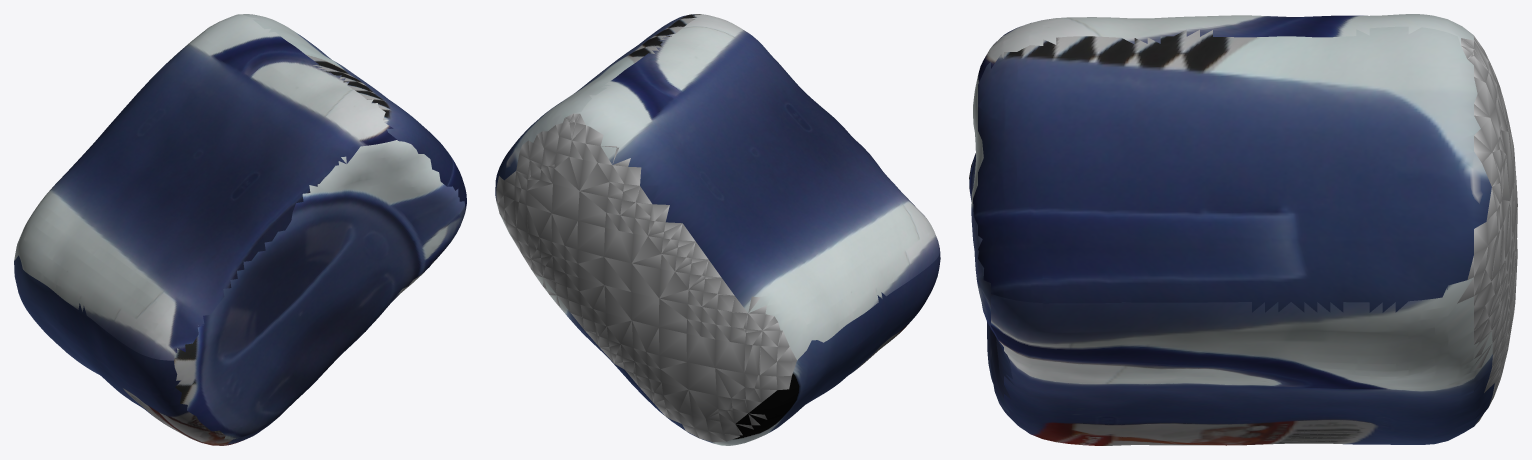
The model's file is model_com.obj.
The picture shows the model from 3 angles, left to right: view 1: azimuth 30°, elevation 25°; view 2: azimuth 150°, elevation 25°; view 3: azimuth 270°, elevation 25°; orthographic projection. The views are drawn at different scales.
Bounding box in the file's own units: 0.0967 × 0.0884 × 0.0852.
